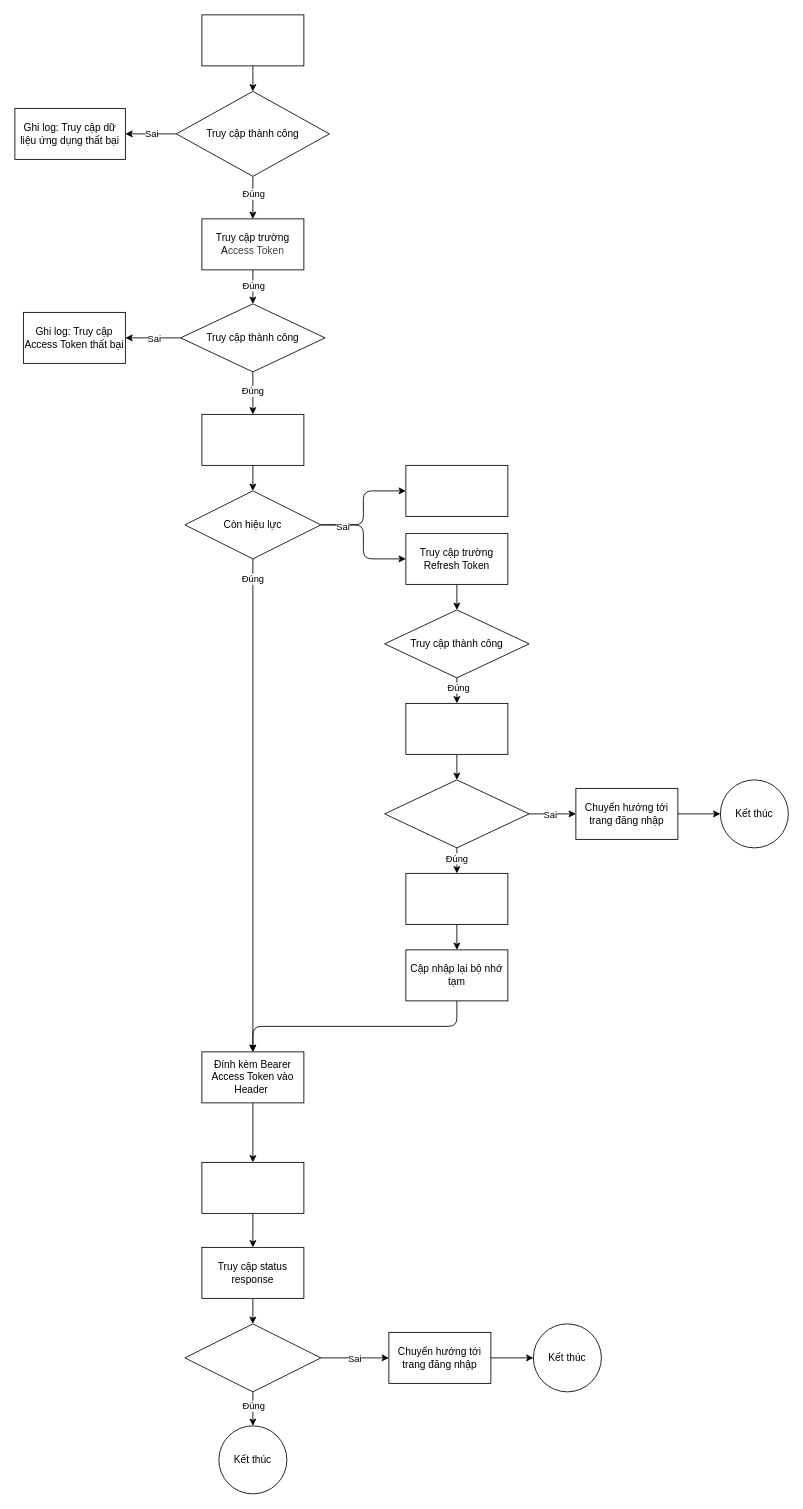
Some shapes in this 803 by 1509 pixel diagram are drawn without their labels. The shapes that lost their labels are listed below. From the top down, each one's centre as x and y in pixels, then its label:
At point 252,40: "Truy cập bộ nhớ cục bộ".
At point 252,439: "Kiểm tra hiệu lực của Access Token".
At point 456,490: "Ghi log: Access Token đã hết hạn".
At point 456,728: "Lấy lại dữ liệu (chứa Access Token) bằng Refresh Token từ backend".
At point 456,813: "Lấy dữ liệu thành công".
At point 456,898: "Lưu dữ liệu vào bộ nhớ cục bộ".
At point 252,1187: "Tiếp tục thực hiện request tới backend".
At point 252,1357: "Đã được ủy quyền".
